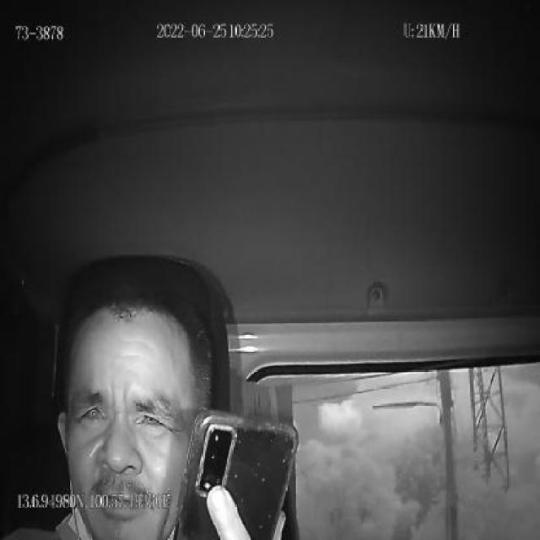phone: (177, 407, 299, 540)
